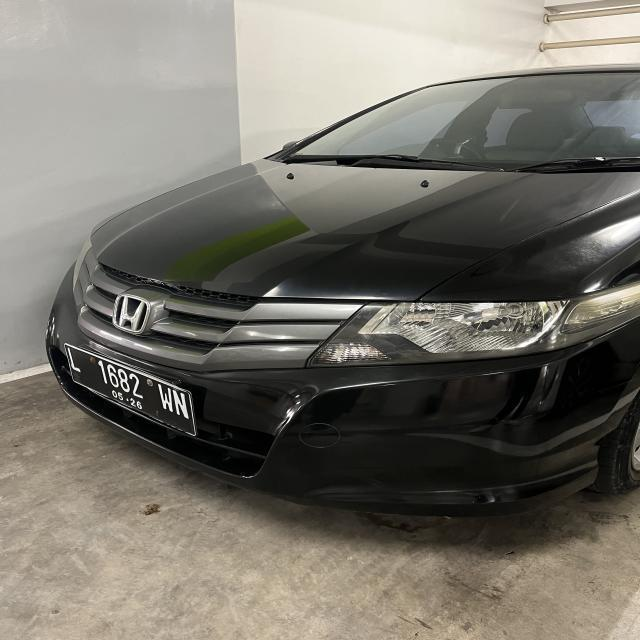1: (99, 360, 108, 384)
2: (130, 371, 143, 399)
6: (106, 362, 118, 390)
8: (118, 366, 130, 396)
L: (66, 346, 80, 374)
N: (174, 388, 188, 419)
W: (157, 383, 173, 413)
